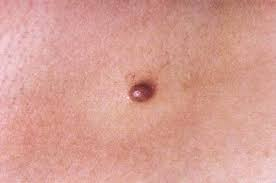melanoma: (123, 60, 174, 104)
